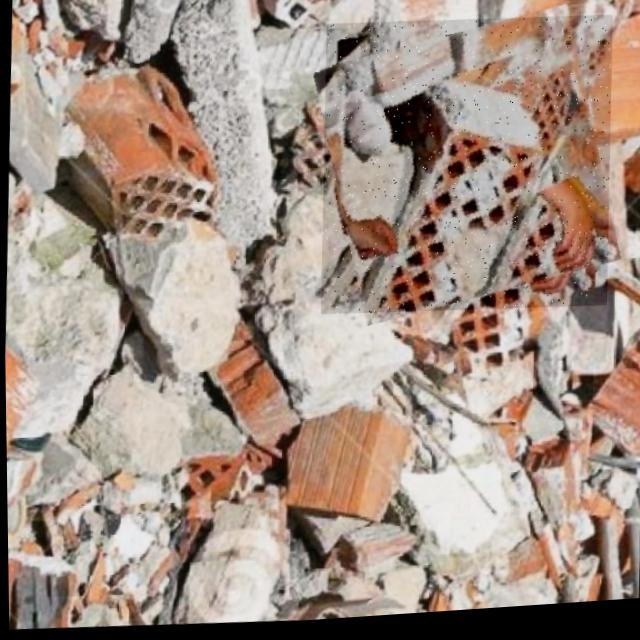Person in Rubble: (315, 13, 615, 329)
